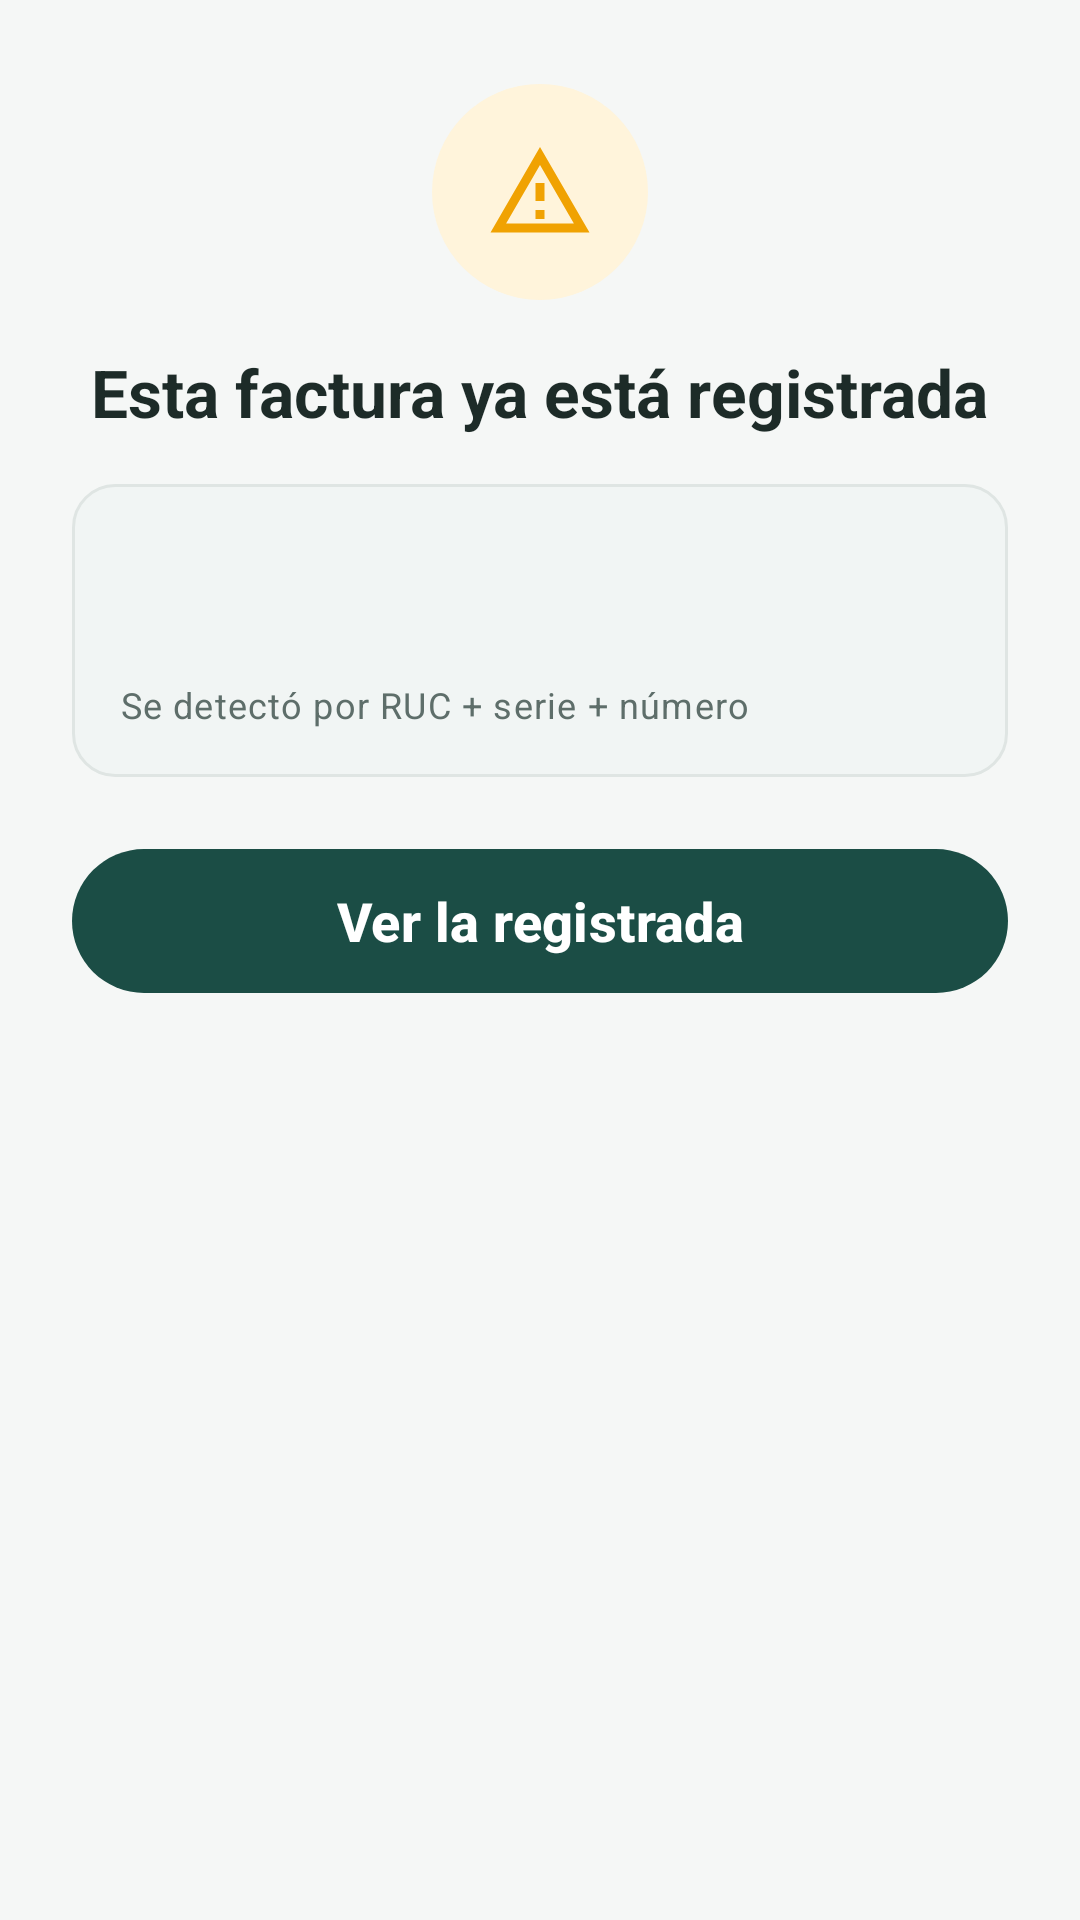

Icon click points for this 1080 × 1920 phone screenshot, format (x,y):
alerta: (540,192)
